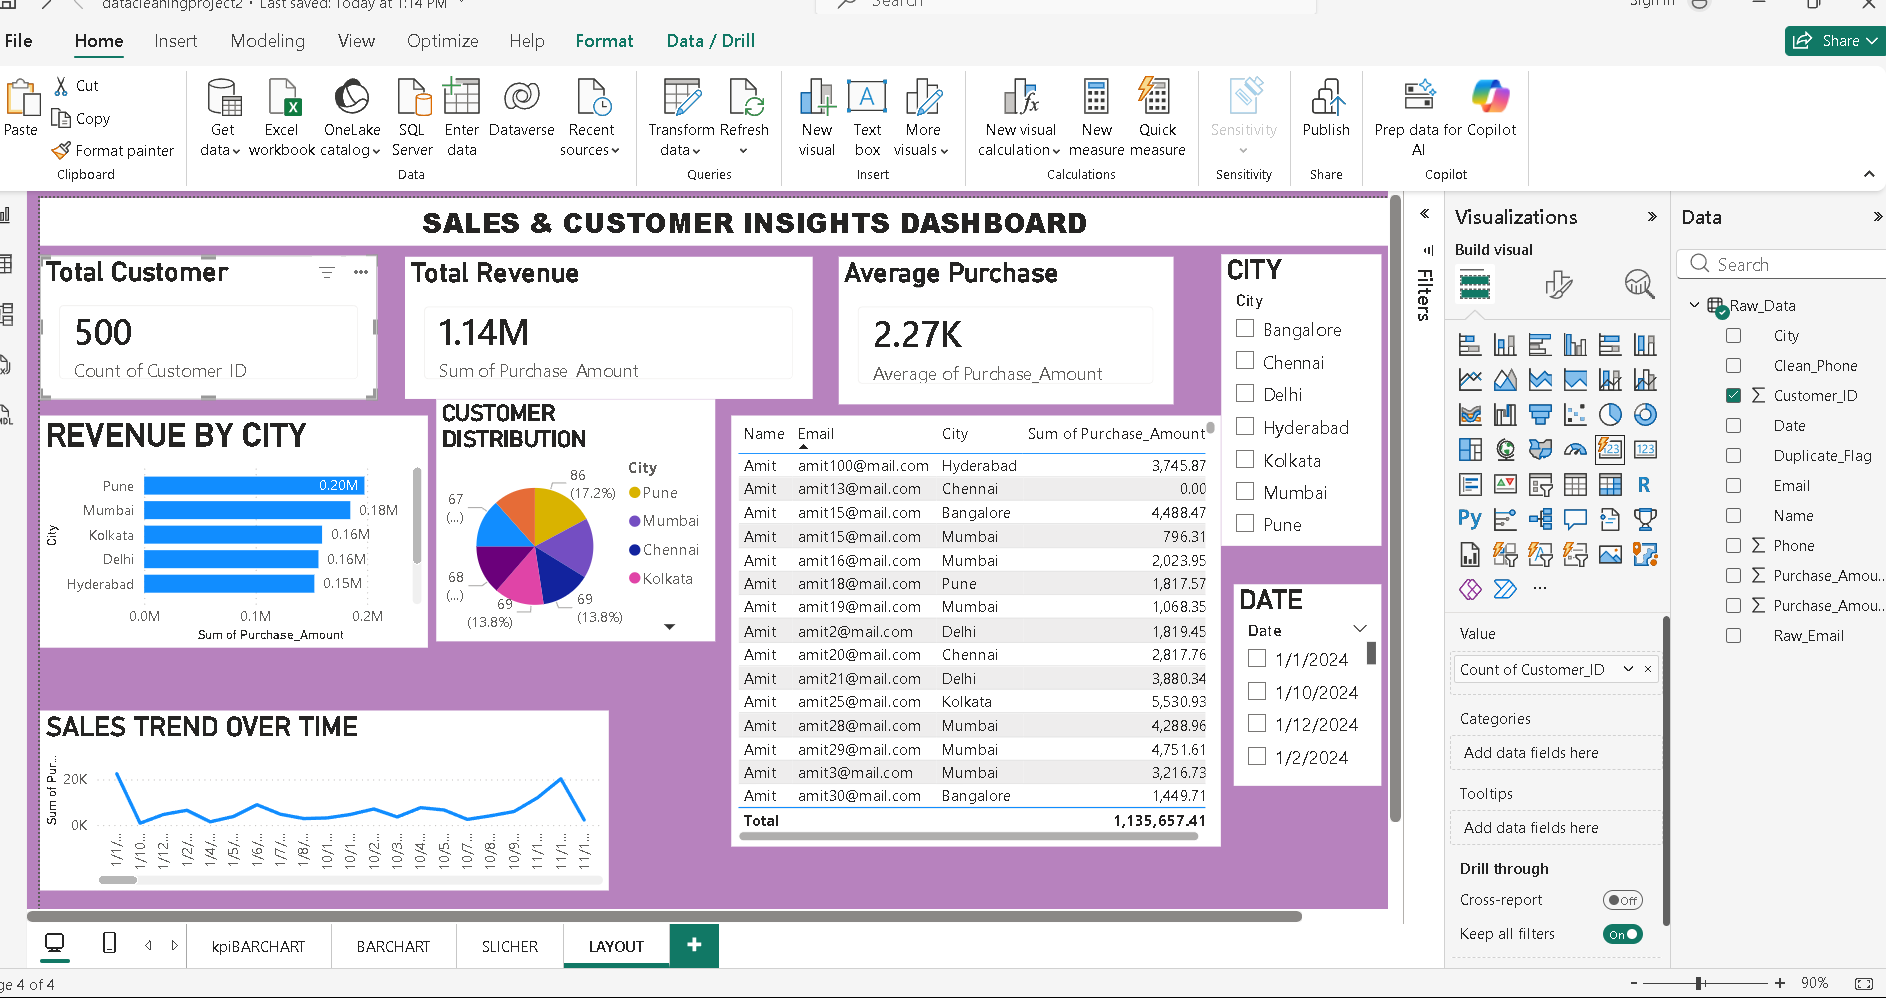

This screenshot's page, from the dashboard's own definition file:
{"tool":"powerbi","page":{"name":"LAYOUT","canvas":[1280,720],"ordinal":3},"visuals":[{"type":"textbox","box":[0,0,1280,42.2],"z":0},{"type":"cardVisual","title":"Total Customer","fields":{"Data":["CountNonNull(Raw_Data.Customer_ID)"]},"box":[0,51.1,300,127.8],"z":1},{"type":"cardVisual","title":"Total Revenue","fields":{"Data":["Sum(Raw_Data.Purchase_Amount)"]},"box":[324.4,52.2,362.2,126.7],"z":2},{"type":"cardVisual","title":"Average Purchase","fields":{"Data":["Avg(Raw_Data.Purchase_Amount)"]},"box":[710,52.2,297.8,131.1],"z":3},{"type":"slicer","title":"DATE","fields":{"Values":["Raw_Data.Date"]},"box":[1061.1,343.3,131.1,178.9],"z":4},{"type":"slicer","title":"CITY","fields":{"Values":["Raw_Data.City"]},"box":[1050,50,142.2,258.9],"z":5},{"type":"clusteredBarChart","title":"REVENUE BY CITY","fields":{"Category":["Raw_Data.City"],"Y":["Sum(Raw_Data.Purchase_Amount)"]},"box":[0,193.3,344.4,206.7],"z":6},{"type":"lineChart","title":"SALES TREND OVER TIME","fields":{"Category":["Raw_Data.Date"],"Y":["Sum(Raw_Data.Purchase_Amount)"]},"box":[0,455.6,505.6,160],"z":7},{"type":"pieChart","title":"CUSTOMER DISTRIBUTION","fields":{"Category":["Raw_Data.City"],"Y":["CountNonNull(Raw_Data.Customer_ID)"]},"box":[352.2,178.9,247.8,215.6],"z":8},{"type":"tableEx","fields":{"Values":["Raw_Data.Name","Raw_Data.Email","Raw_Data.City","Sum(Raw_Data.Purchase_Amount)"]},"box":[614.4,193.3,435.6,383.3],"z":9}]}

Visuals, with their boxes on the page's 1280x720 design canvas (x1, y1, x2, y2). These are canvas units, not pixel positions in the 1886x998 screenshot, which may show the page scaled, cropped or inside an application window:
textbox: x1=0, y1=0, x2=1280, y2=42
"Total Customer" cardVisual: x1=0, y1=51, x2=300, y2=179
"Total Revenue" cardVisual: x1=324, y1=52, x2=687, y2=179
"Average Purchase" cardVisual: x1=710, y1=52, x2=1008, y2=183
"DATE" slicer: x1=1061, y1=343, x2=1192, y2=522
"CITY" slicer: x1=1050, y1=50, x2=1192, y2=309
"REVENUE BY CITY" clusteredBarChart: x1=0, y1=193, x2=344, y2=400
"SALES TREND OVER TIME" lineChart: x1=0, y1=456, x2=506, y2=616
"CUSTOMER DISTRIBUTION" pieChart: x1=352, y1=179, x2=600, y2=394
tableEx - Raw_Data.Name x Raw_Data.Email: x1=614, y1=193, x2=1050, y2=577
